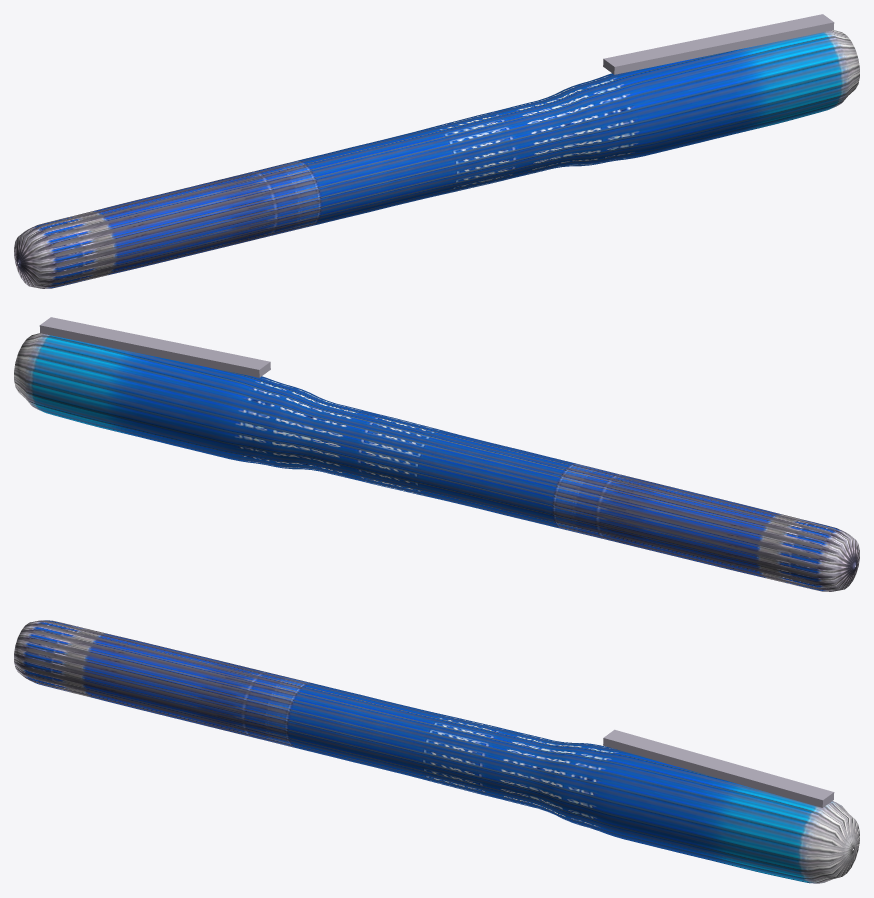
The model's file is linc-ocean.glb.
3 renders of one model, top to bottom at view 1: azimuth 30°, elevation 25°; view 2: azimuth 150°, elevation 25°; view 3: azimuth 330°, elevation 25°, orthographic.
Visible parts, largest first — view 1: linc-ocean_barrel, linc-ocean_clip; view 2: linc-ocean_barrel, linc-ocean_clip; view 3: linc-ocean_barrel, linc-ocean_clip.
Part boxes in pixels (x1,y1,x2,y2): linc-ocean_barrel: (14,30,859,288); linc-ocean_clip: (603,14,834,74); linc-ocean_barrel: (14,333,859,591); linc-ocean_clip: (39,317,270,377); linc-ocean_barrel: (14,620,859,883); linc-ocean_clip: (603,729,834,807).
Bounding box in the file's own units: 0.145 × 0.016 × 0.0132.
Materials: 2 (1 with a texture image).
